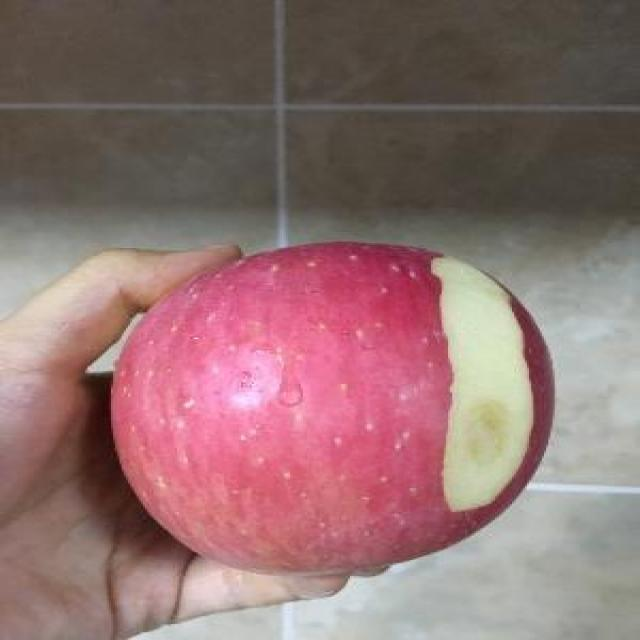Rotten: (104, 237, 574, 584)
